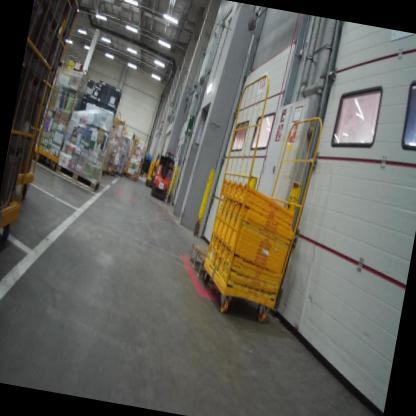pallet: (181, 235, 231, 283), (52, 164, 104, 192), (121, 168, 141, 182), (141, 169, 149, 178)
pallet_truck: (146, 143, 181, 205), (143, 153, 162, 191)
